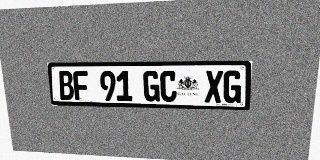1: (115, 71, 132, 101)
9: (99, 71, 116, 101)
B: (58, 71, 74, 100)
C: (160, 71, 177, 102)
F: (73, 71, 89, 100)
G: (223, 70, 242, 103), (143, 71, 160, 102)
X: (205, 70, 223, 103)
